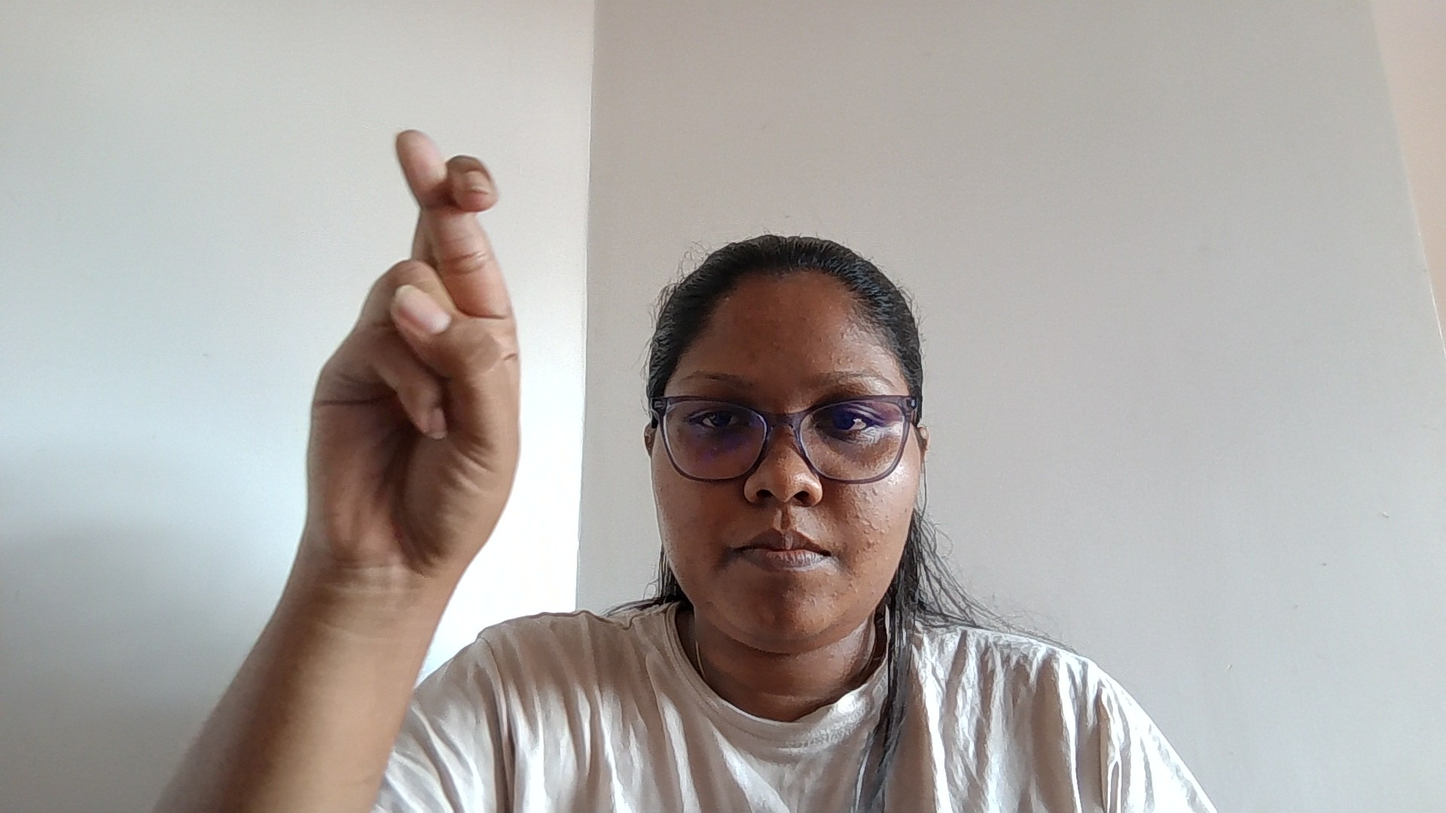Good_Luck: (237, 104, 585, 614)
